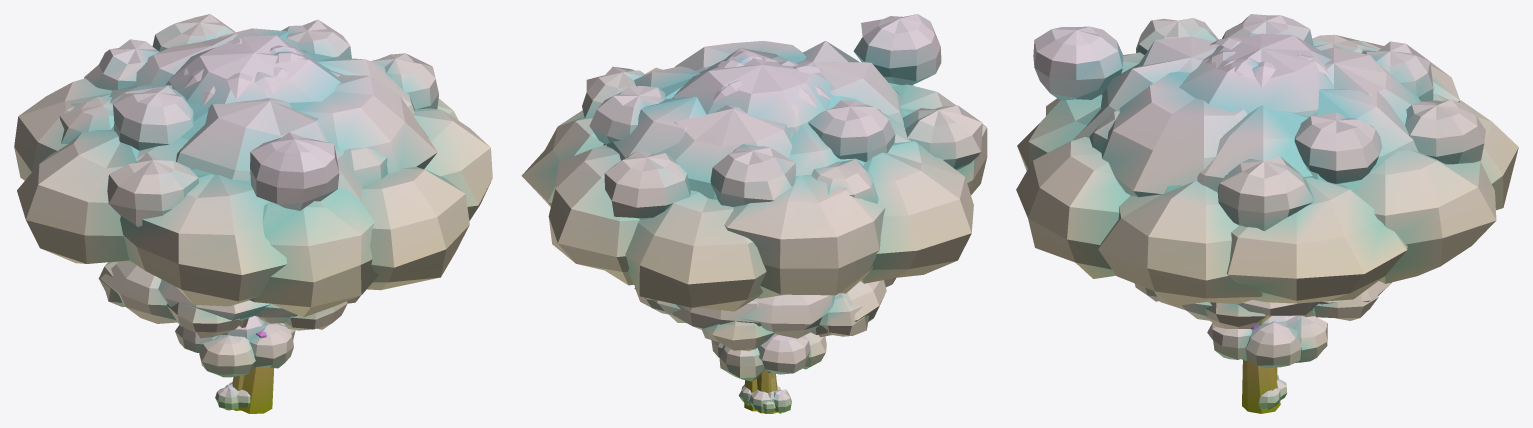
Rendered from trees.glb.
3 renders of one model, left to right at view 1: azimuth 30°, elevation 25°; view 2: azimuth 150°, elevation 25°; view 3: azimuth 270°, elevation 25°, orthographic. The views are drawn at different scales.
Parts seen in each view (by area): view 1: trees__rain_tree__LOD0, trees__flame_tree__LOD0, trees__frangipani__LOD0, trees__royal_palm__LOD0, trees__shrub_hedge__LOD0; view 2: trees__rain_tree__LOD0, trees__flame_tree__LOD0, trees__frangipani__LOD0, trees__royal_palm__LOD0, trees__shrub_hedge__LOD0, trees__shrub_round__LOD0; view 3: trees__rain_tree__LOD0, trees__frangipani__LOD0, trees__flame_tree__LOD0, trees__royal_palm__LOD0.
Boxes of the visible parts, box(x1,y1,x2,y2) form: trees__rain_tree__LOD0: box(14, 14, 492, 413); trees__flame_tree__LOD0: box(98, 262, 360, 410); trees__frangipani__LOD0: box(175, 316, 295, 377); trees__royal_palm__LOD0: box(173, 38, 305, 104); trees__shrub_hedge__LOD0: box(215, 383, 238, 410); trees__rain_tree__LOD0: box(521, 14, 987, 411); trees__flame_tree__LOD0: box(634, 278, 895, 413); trees__frangipani__LOD0: box(711, 332, 826, 381); trees__royal_palm__LOD0: box(712, 51, 831, 392); trees__shrub_hedge__LOD0: box(738, 385, 791, 413); trees__shrub_round__LOD0: box(749, 386, 780, 412); trees__rain_tree__LOD0: box(1016, 14, 1518, 413); trees__frangipani__LOD0: box(1207, 315, 1327, 368); trees__flame_tree__LOD0: box(1134, 281, 1391, 328); trees__royal_palm__LOD0: box(1206, 37, 1330, 371).
Size of what is drawn, in the model's own units: 20.4 by 16 by 20.4.
